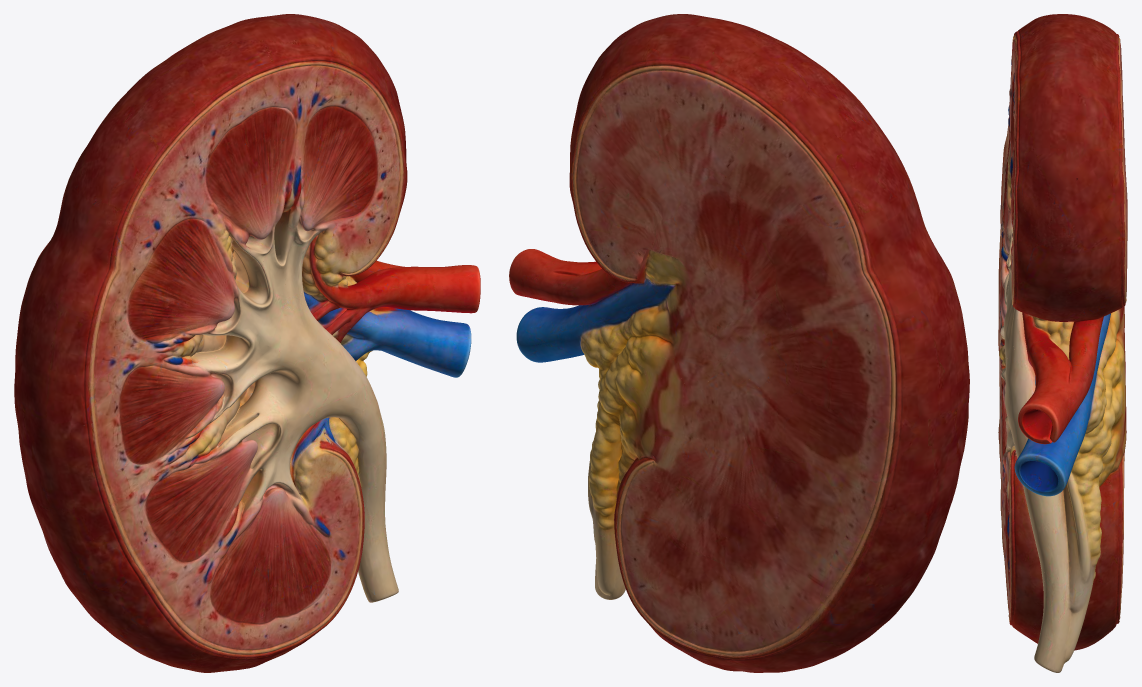
File: human-kidney.glb
3 views of the same model, side by side, from view 1: azimuth 30°, elevation 25°; view 2: azimuth 150°, elevation 25°; view 3: azimuth 270°, elevation 25° (orthographic). The views are drawn at different scales.
Visible parts, largest first — view 1: human-kidney; view 2: human-kidney; view 3: human-kidney.
Part boxes in pixels (x1,y1,x2,y2): human-kidney: (14,14,480,672); human-kidney: (509,14,969,672); human-kidney: (998,14,1127,672).
Size of the model in its own units: 0.0888 by 0.12 by 0.0227.
1 material, 1 textured.
